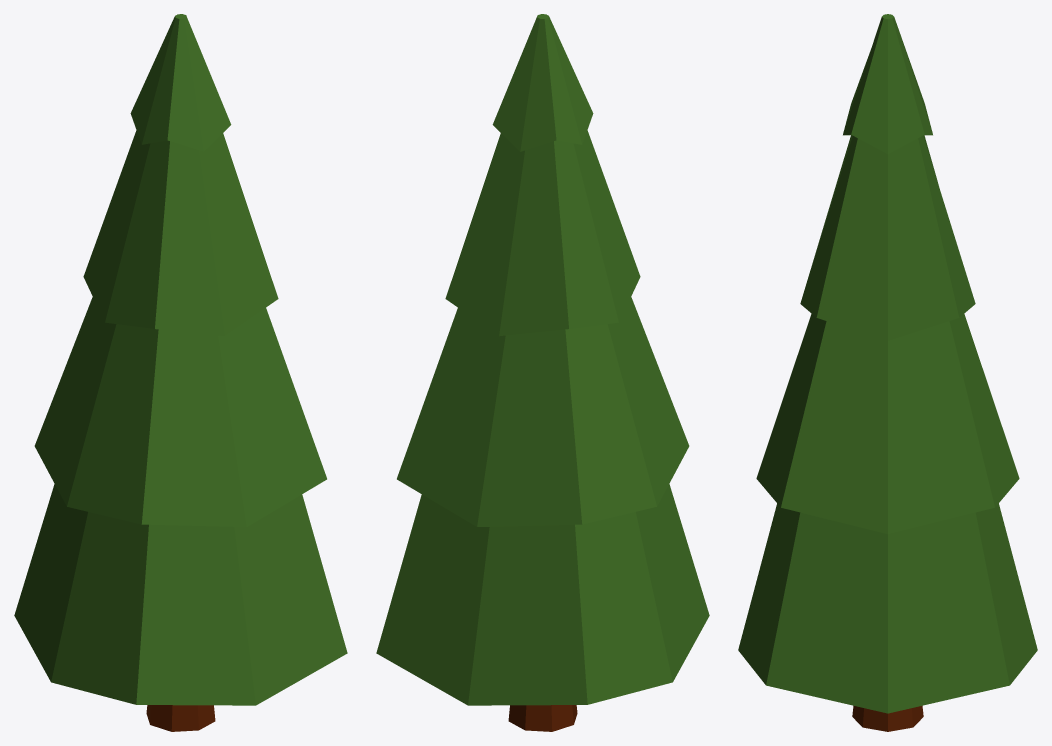
File: tree.fbx
The picture shows the model from 3 angles, left to right: view 1: azimuth 30°, elevation 25°; view 2: azimuth 150°, elevation 25°; view 3: azimuth 270°, elevation 25°; orthographic projection.
Parts seen in each view (by area): view 1: Cylinder, Cylinder.001; view 2: Cylinder, Cylinder.001; view 3: Cylinder, Cylinder.001.
Part boxes in pixels (x1,y1,x2,y2): Cylinder: (14,14,347,705); Cylinder.001: (146,705,215,731); Cylinder: (376,14,709,705); Cylinder.001: (508,705,577,731); Cylinder: (738,14,1037,713); Cylinder.001: (852,705,923,731).
Bounding box in the file's own units: 234 × 604 × 234.
